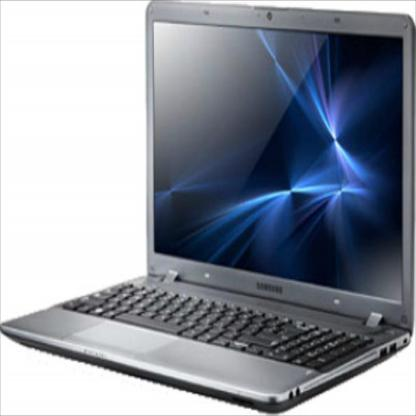board: (5, 0, 416, 416)
